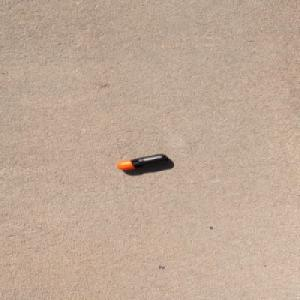PlasticPart: (115, 153, 170, 170)
